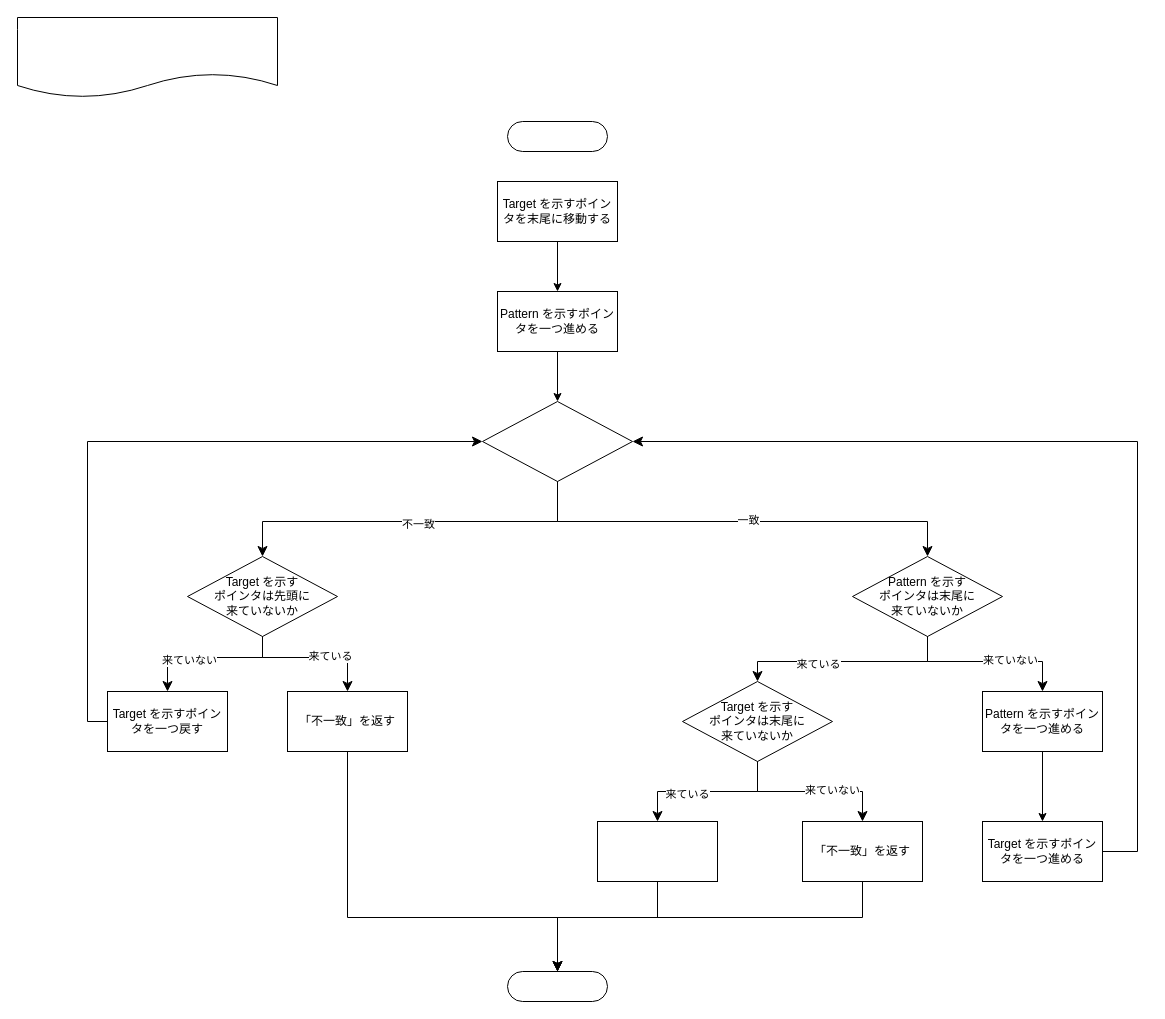
This 1165x1019 diagram has some shape labels left out. The centre of each missing label's shape, as x and y in pixels:
"END" belongs at pixel 557 986.
"Pattern と Target の一致判定" belongs at pixel 557 441.
"START" belongs at pixel 557 136.
"Target : 正規表現で検査される対象の文字列 Pattern : 正規表現" belongs at pixel 147 57.
"「一致」を返す" belongs at pixel 657 851.
